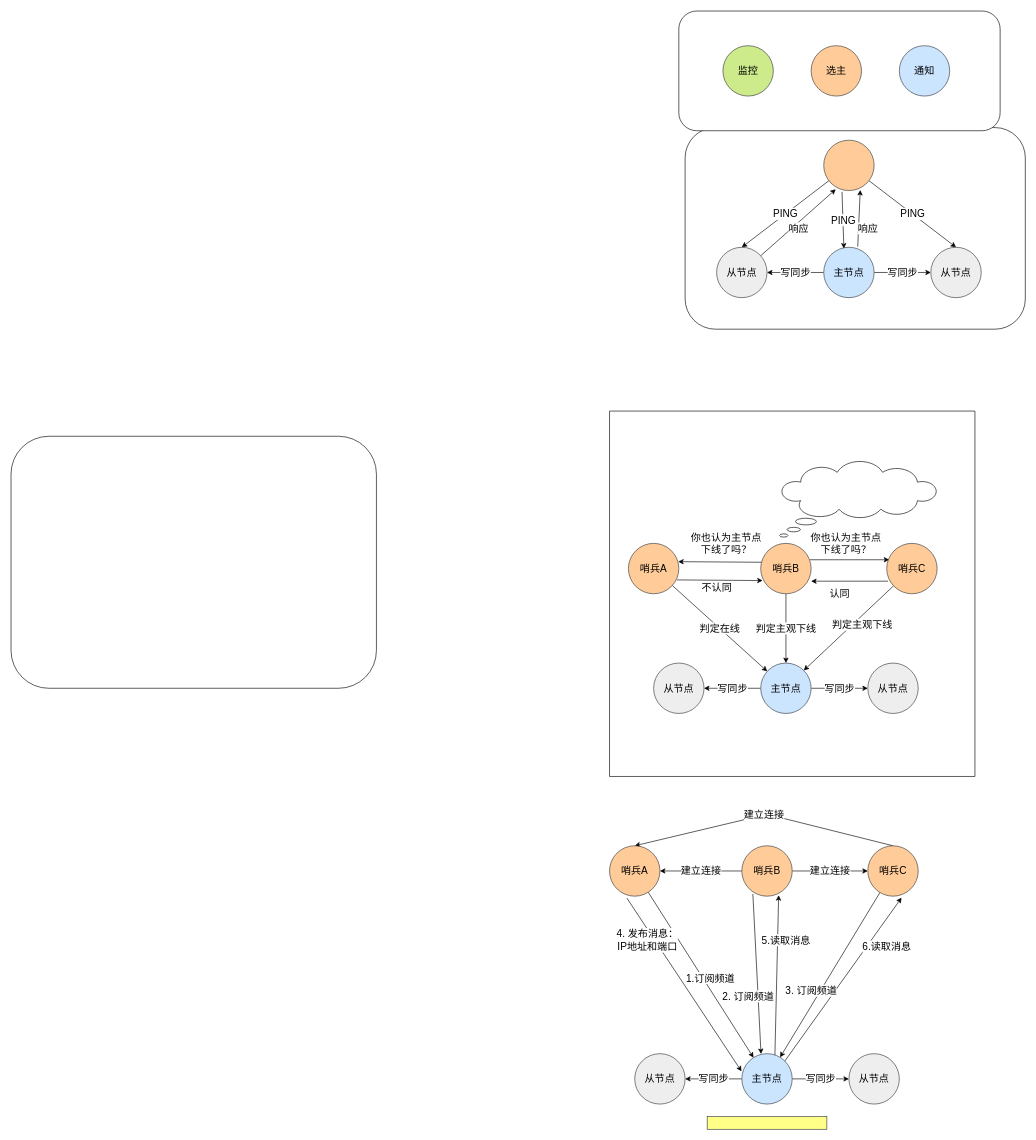
This 1036x1140 diagram has some shape labels left out. The box of each missing label's shape, as (x1, y1, x2, y2) in pixels:
主观下线的票数有2个，所以我标记主节点为「客观下线」: (779, 461, 937, 537)
哨兵: (823, 140, 874, 191)
频道：__sentinel__:hello: (707, 1116, 827, 1129)
